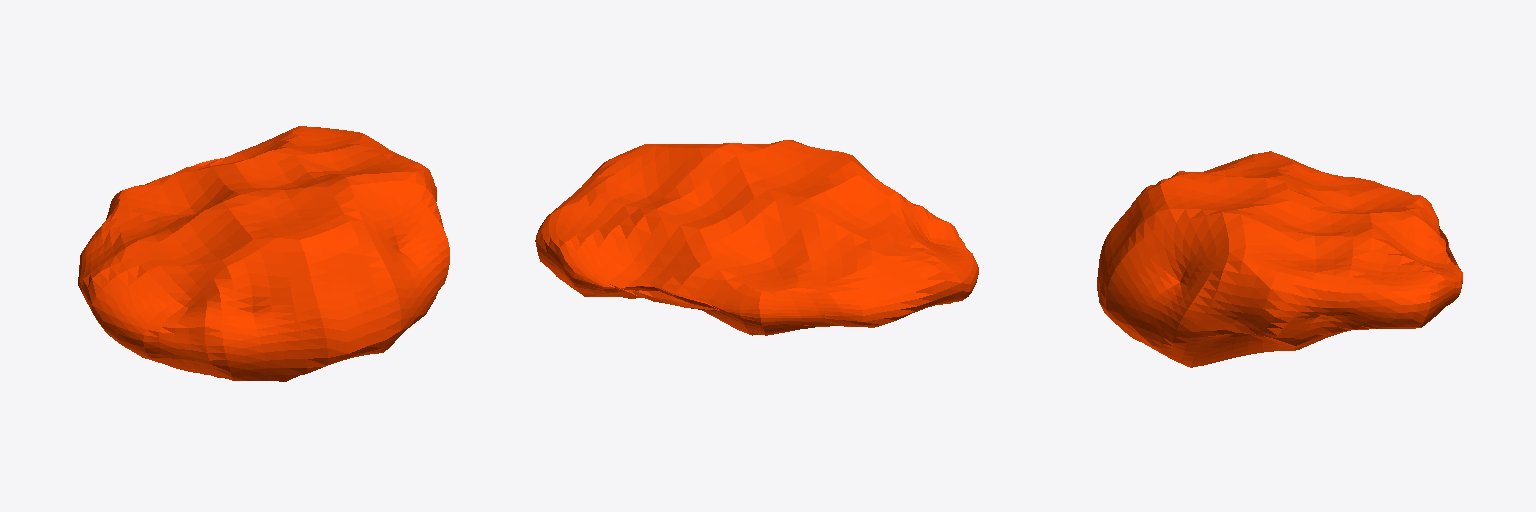
Rendered from fishesInSeaScene.obj.
3 renders of one model, left to right at view 1: azimuth 30°, elevation 25°; view 2: azimuth 150°, elevation 25°; view 3: azimuth 270°, elevation 25°, orthographic.
Visible parts, largest first — view 1: Cube.005; view 2: Cube.005; view 3: Cube.005.
Part boxes in pixels (bbox=[...]): Cube.005: bbox=[78, 126, 449, 381]; Cube.005: bbox=[535, 140, 978, 335]; Cube.005: bbox=[1097, 151, 1462, 367].
Size of the model in its own units: 0.5528 by 0.2243 by 0.491.